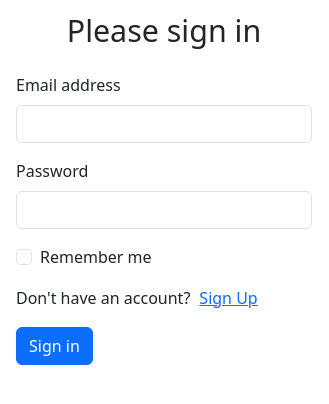
Scenario: displays error message when password is not provided
The width and height of the screenshot is (329, 404).
Type "test@test.com" into the field labelled "Email address" at (164, 124), box [16,104,312,142]
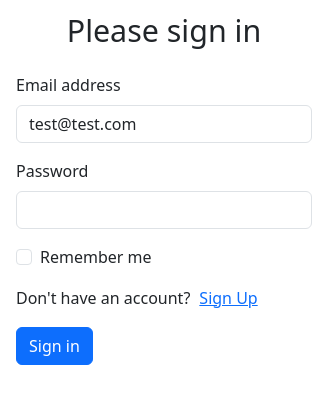
Click the button "Sign in" at (54, 346), box [16,326,93,364]
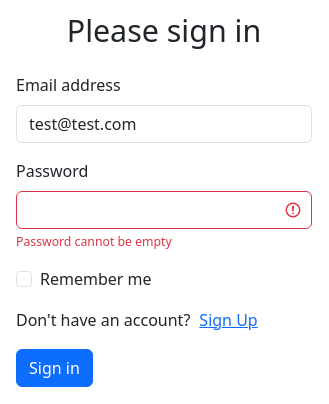
Check: the text "Password cannot be empty" is shown, box [16,232,172,250]
